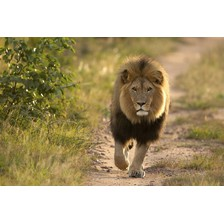lion: (109, 54, 170, 178)
